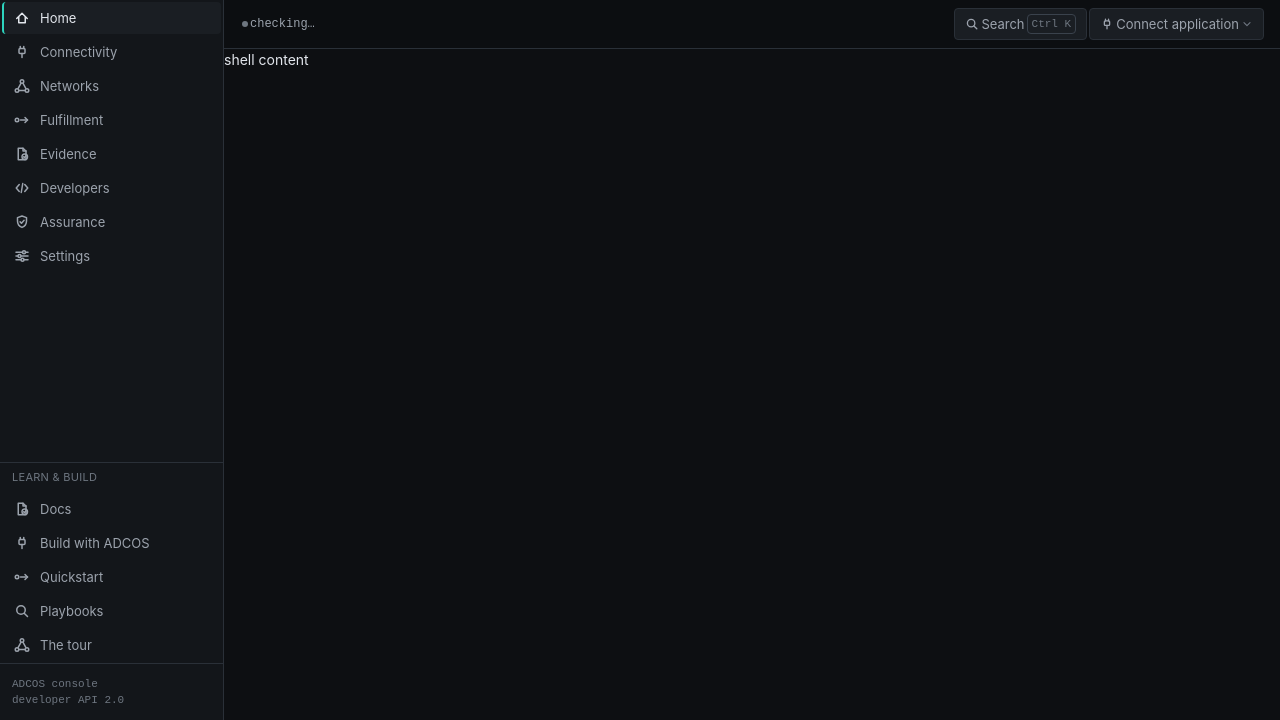
Scenario: CommandPalette › opens on Cmd+K, filters with the fuzzy matcher, and executes with ArrowDown + Enter
Step 1. Press k
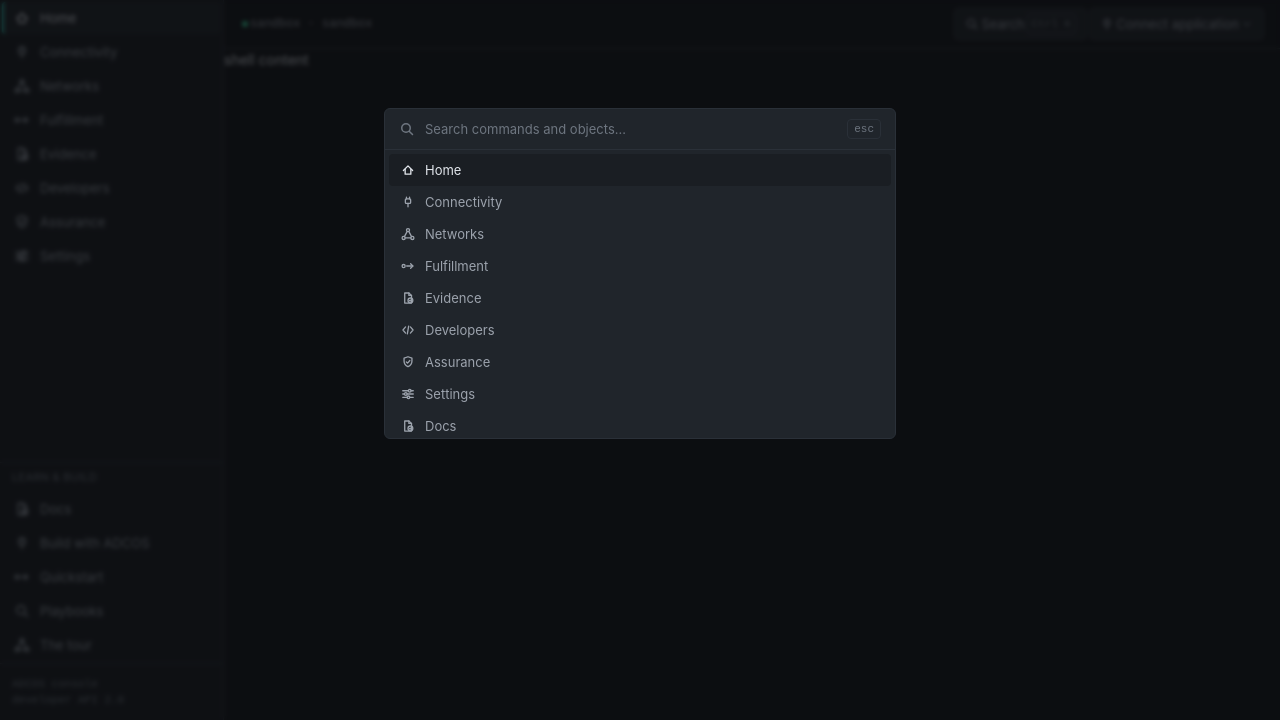
Check: the dropdown labelled "Search commands and objects" is shown
Check: the option "Home" is shown, box [389, 154, 891, 186]
Check: the option "Networks" is shown, box [401, 226, 484, 242]
Step 2. Type "playb" into the dropdown labelled "Search commands and objects" → (631, 129), box [425, 109, 837, 149]
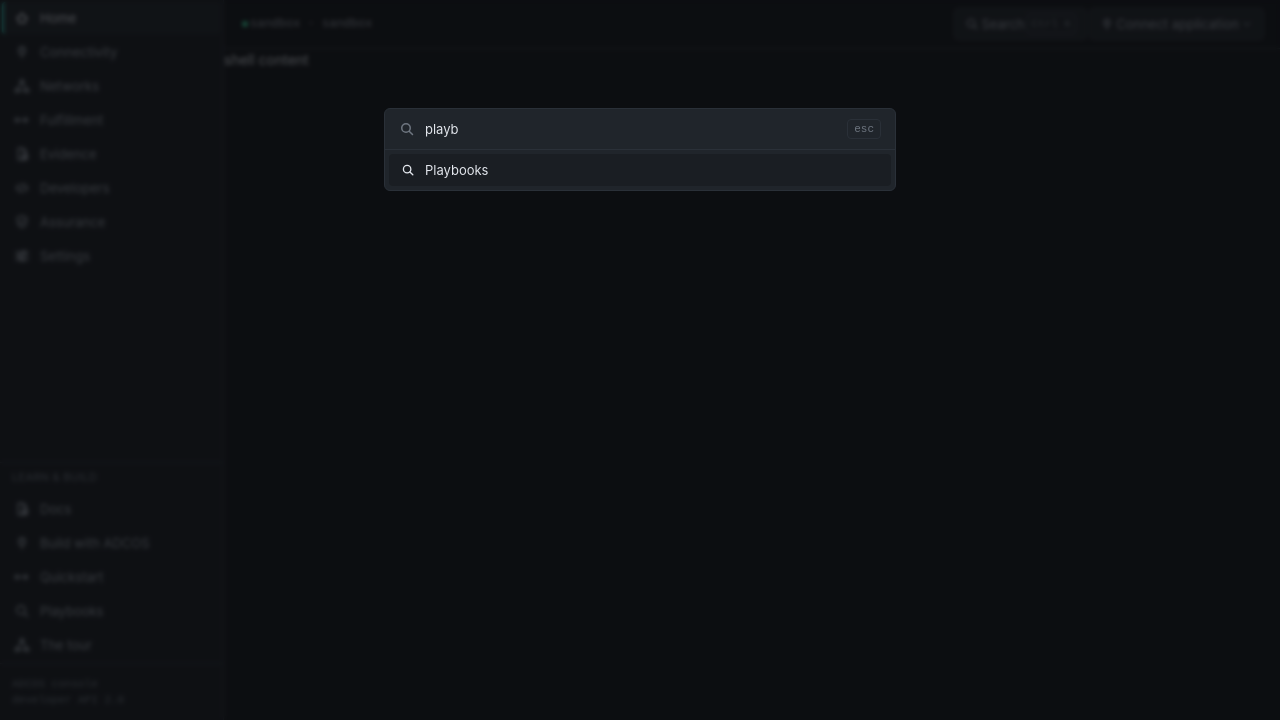
Check: the number of options is 1, box [389, 154, 891, 186]
Step 3. Replace the text in the dropdown named "Search commands and objects" with "netw" → (631, 129), box [425, 109, 837, 149]
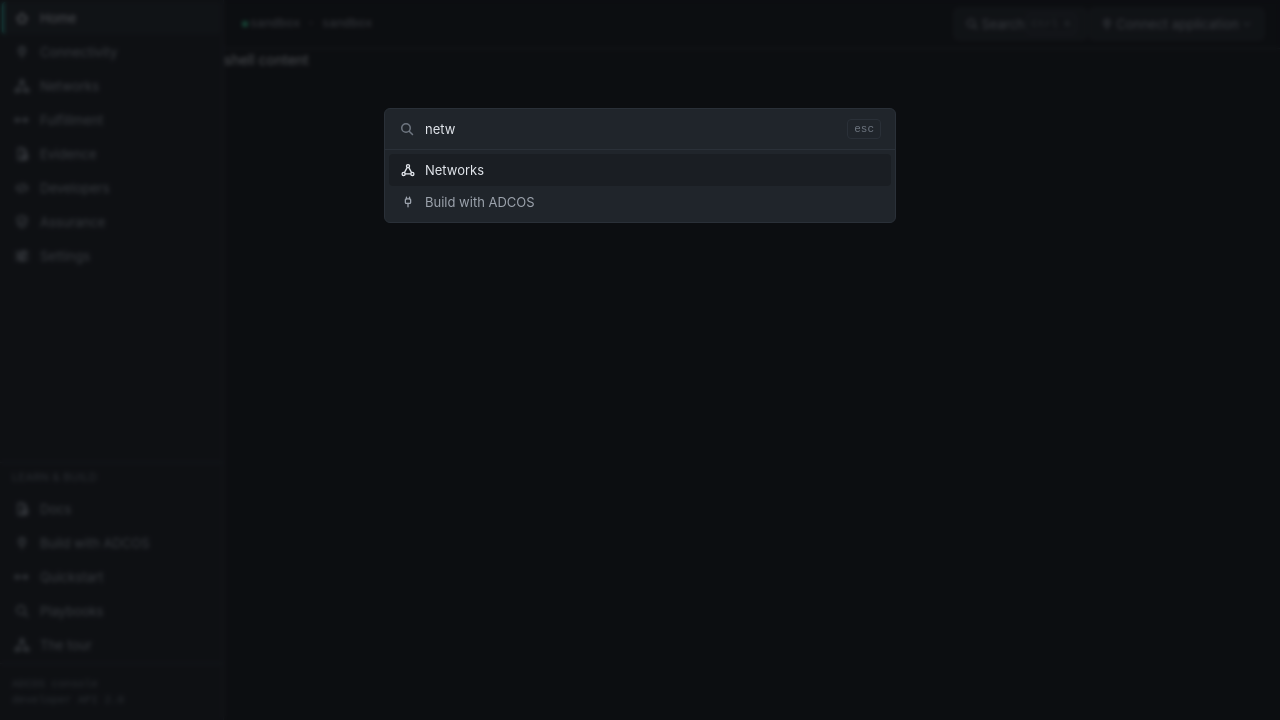
Check: the number of options is 2, box [389, 154, 891, 186]; [401, 194, 535, 210]
Step 4. Press Arrowdown
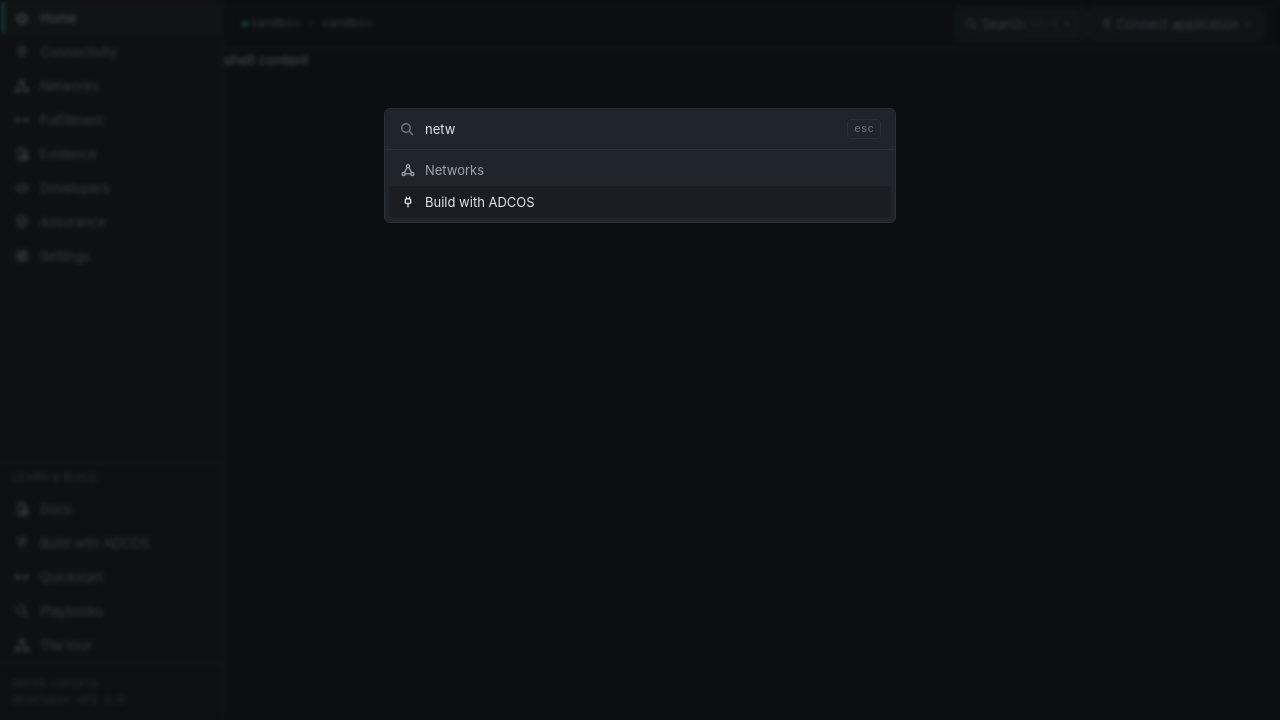
Step 5. Press Arrowdown
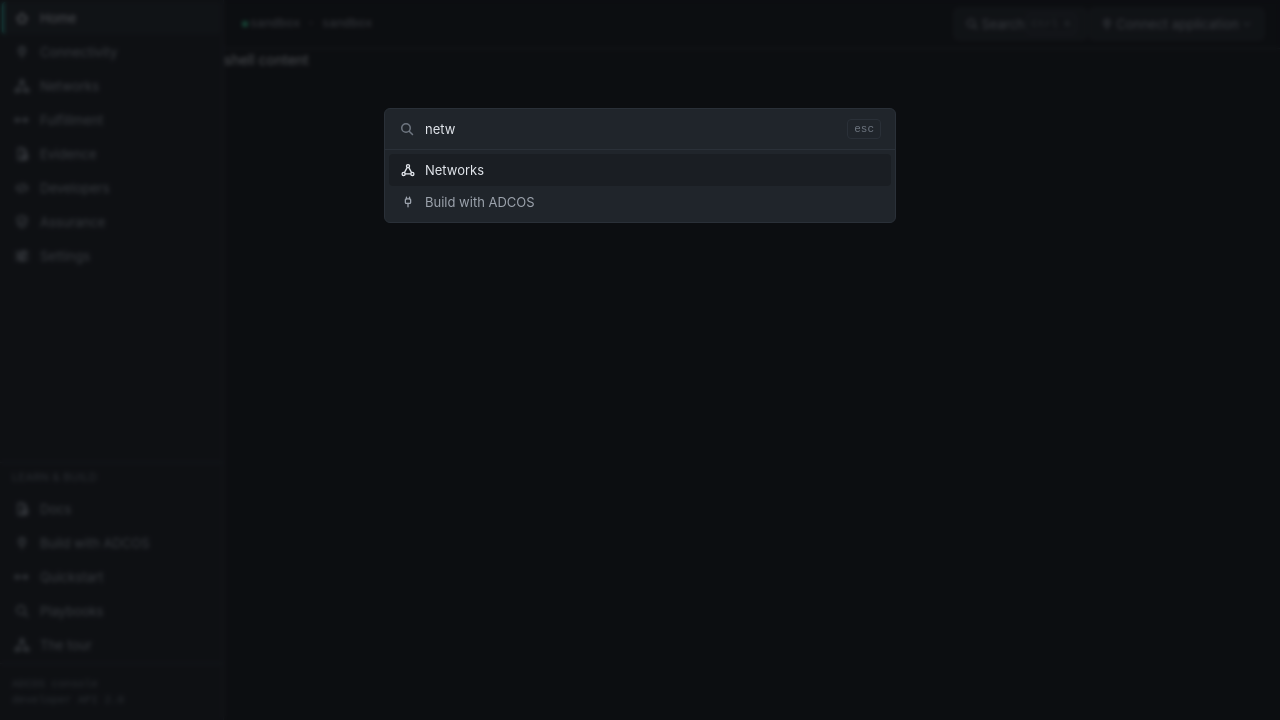
Step 6. Press Enter
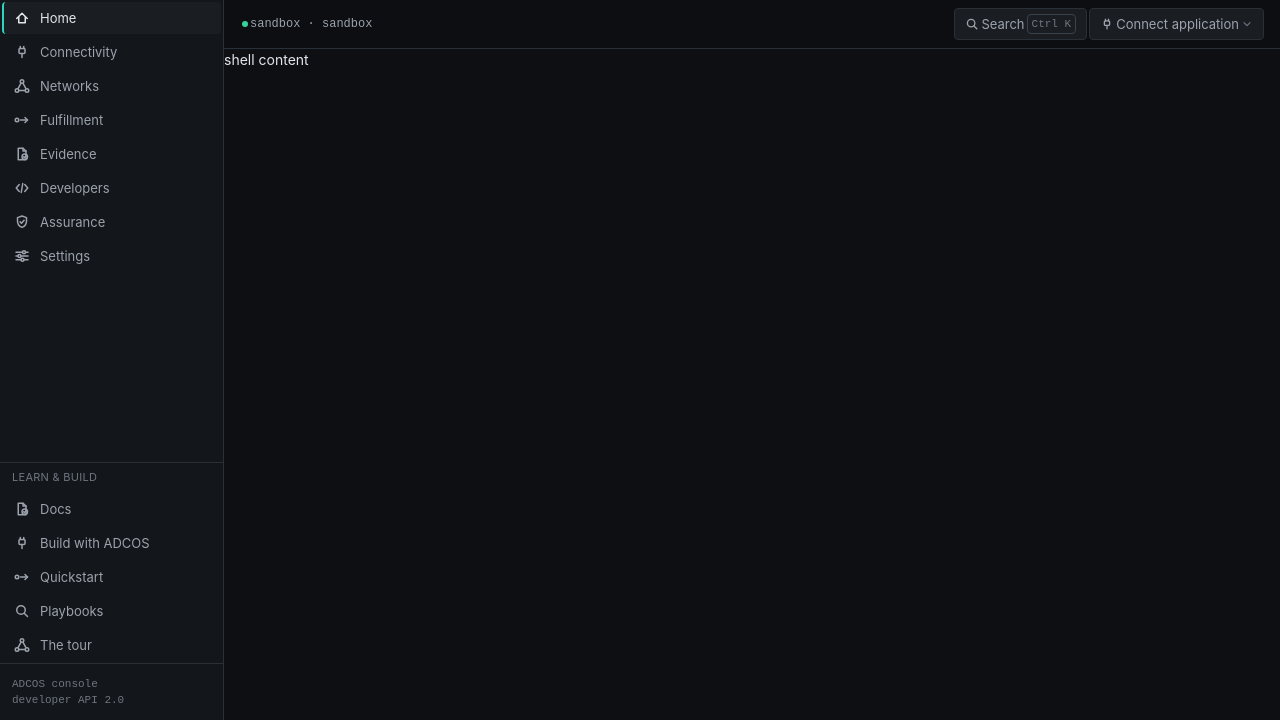
Check: the dropdown is gone
